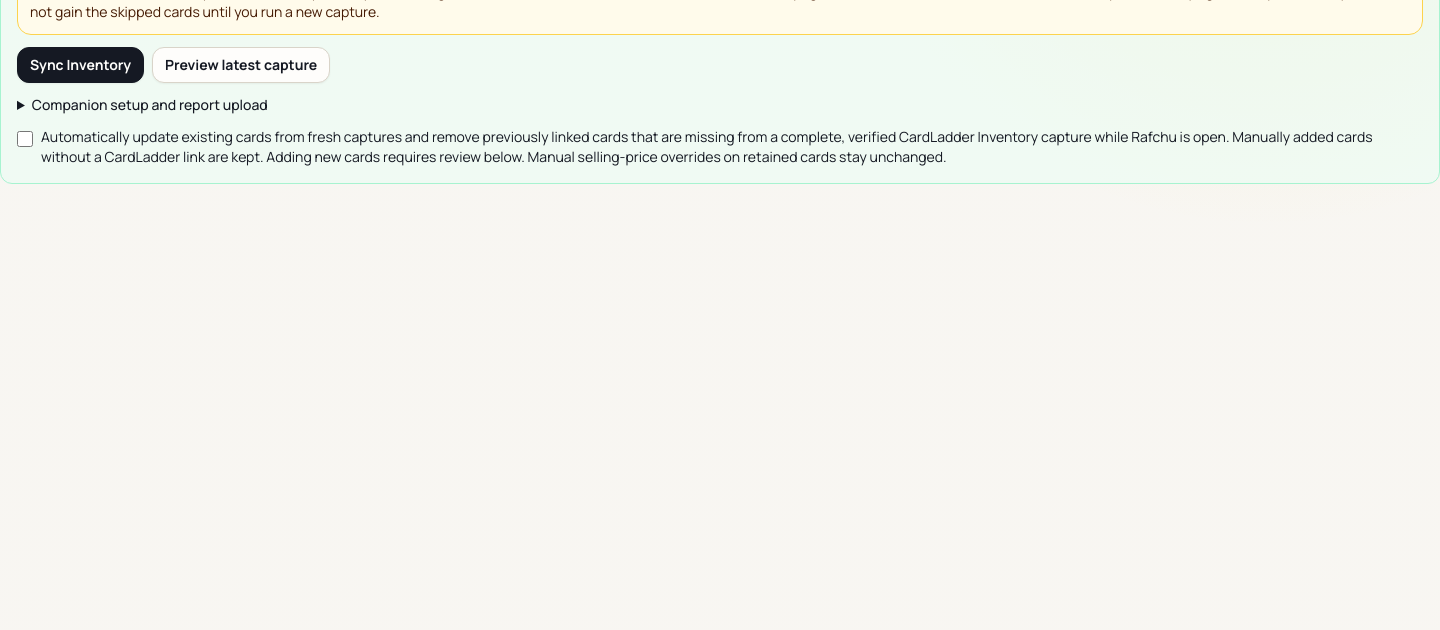
Test: defaults to explicit sticker updates and can apply stickers from the same report after a market-only save
Click the button "Preview latest capture" at (241, 65), box x1=152 y1=47 x2=330 y2=83
(page scrolled)
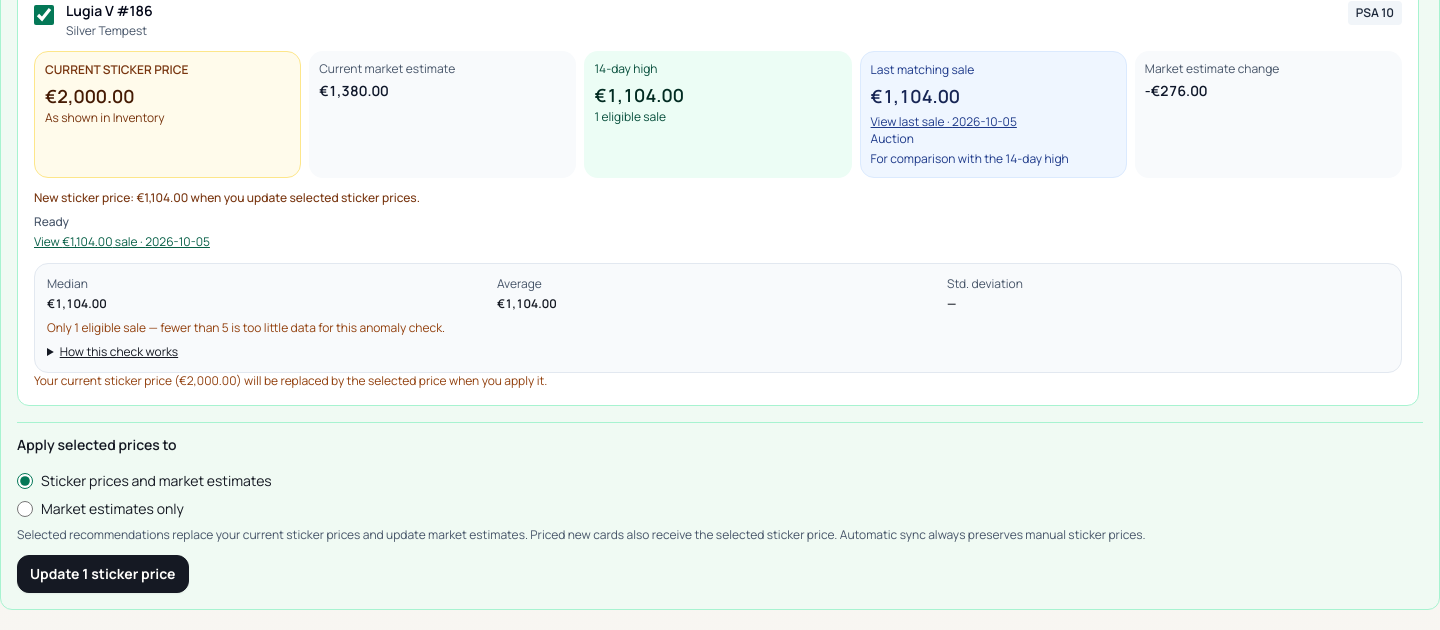
Result: the radio button labelled "Sticker prices and market estimates" is checked at x1=17 y1=473 x2=33 y2=489
Result: the button "Update 1 sticker price" is shown at x1=17 y1=555 x2=188 y2=593
Click the radio button labelled "Market estimates only" at (25, 509), box x1=17 y1=501 x2=33 y2=517
(page scrolled)
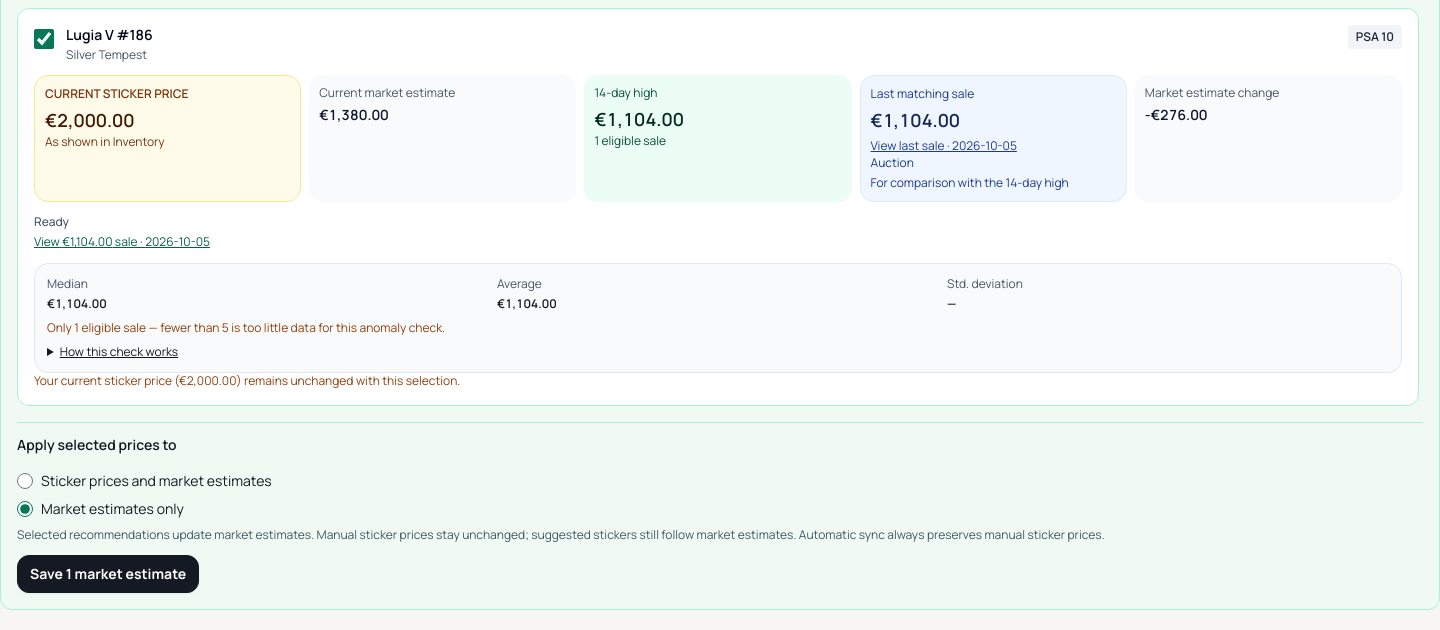
Result: the button "Save 1 market estimate" is shown
Result: the text "New sticker price:" is gone
Result: the text "remains unchanged with this selection" is shown at x1=34 y1=372 x2=460 y2=389
Click the button "Save 1 market estimate" at (108, 574), box x1=17 y1=555 x2=199 y2=593
(page scrolled)
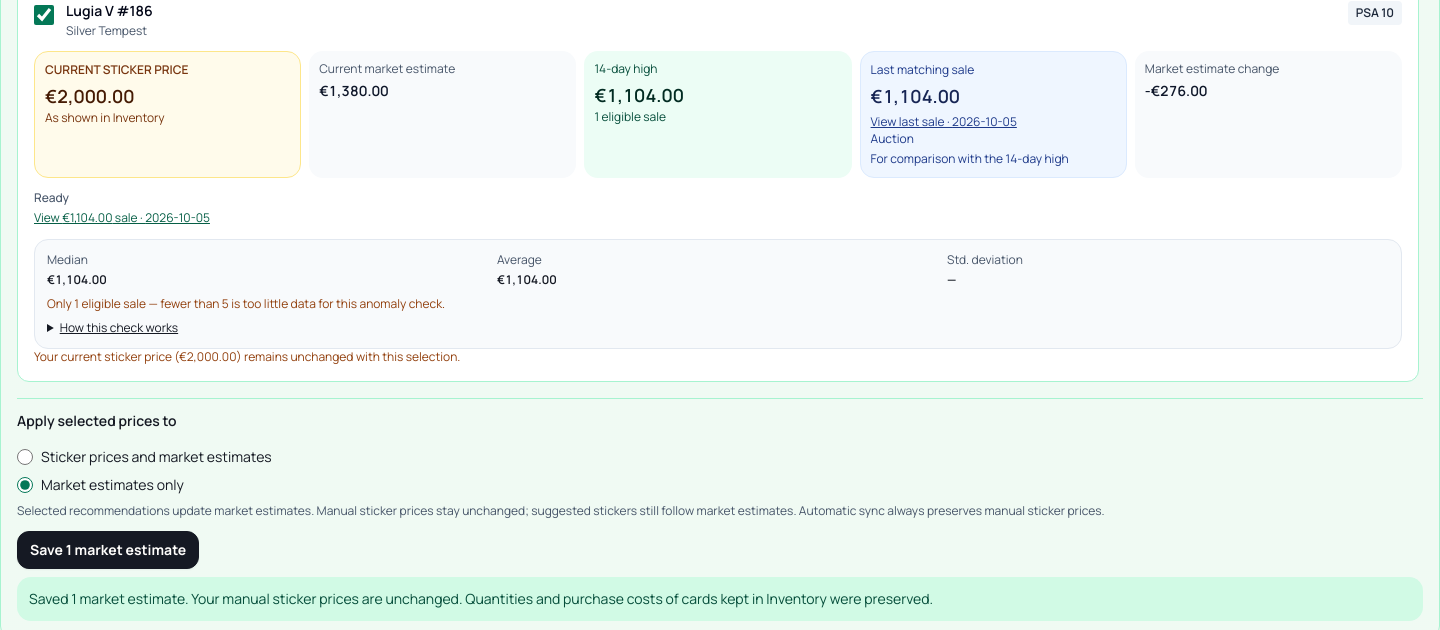
Result: the message shows "Saved 1 market estimate. Your manual sticker prices are unchanged." at x1=29 y1=589 x2=933 y2=608
Click the radio button labelled "Sticker prices and market estimates" at (25, 457), box x1=17 y1=449 x2=33 y2=465
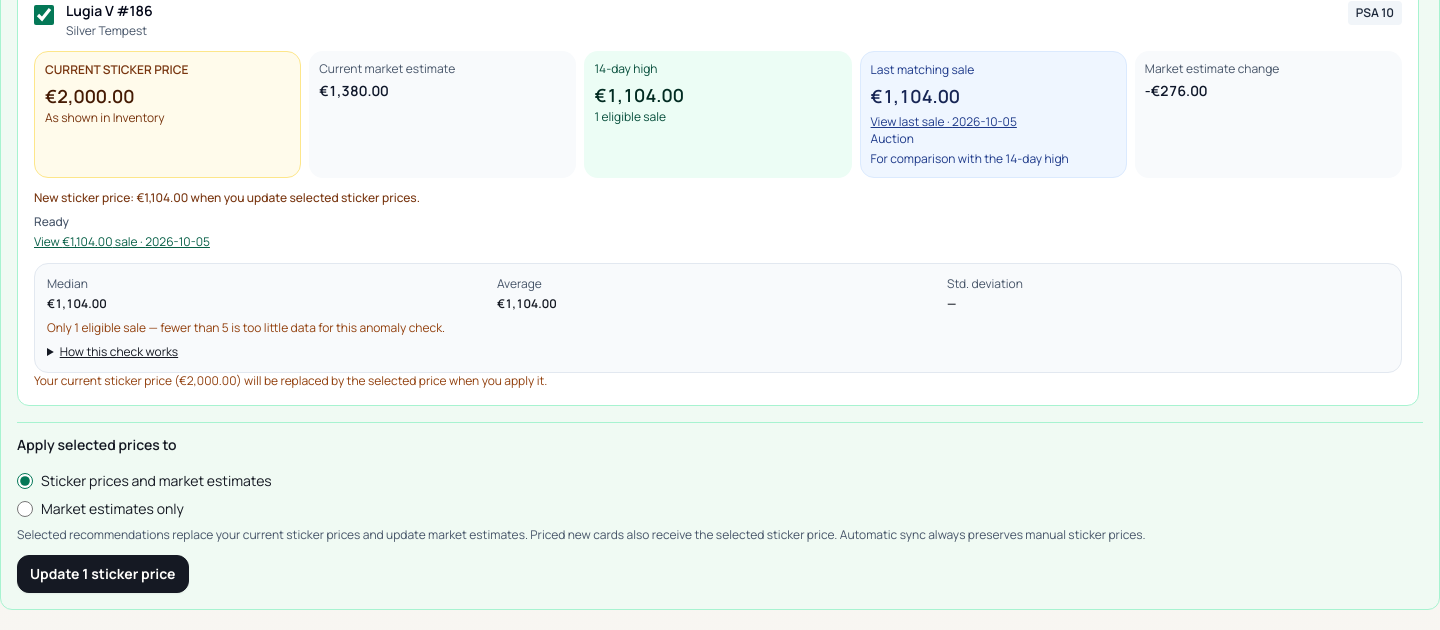
Click the button "Update 1 sticker price" at (103, 574), box x1=17 y1=555 x2=188 y2=593
(page scrolled)
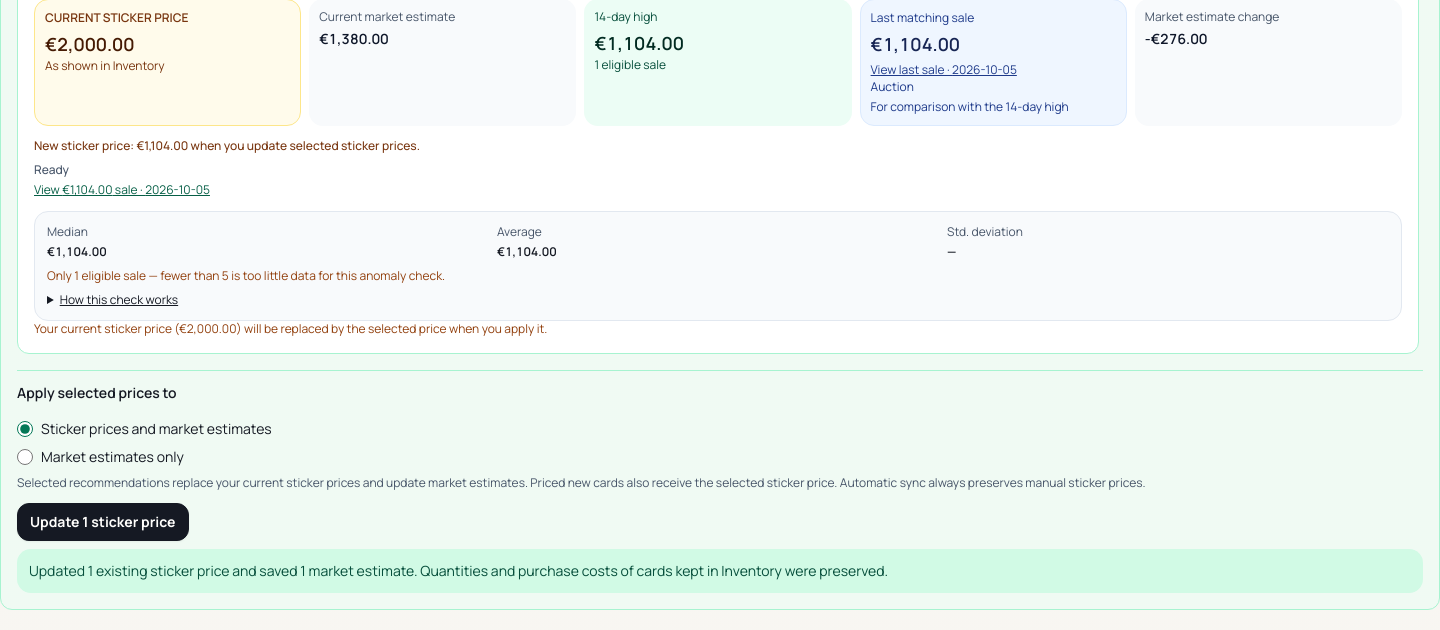
Result: the message shows "Updated 1 existing sticker price and saved 1 market estimate." at x1=29 y1=561 x2=888 y2=580
